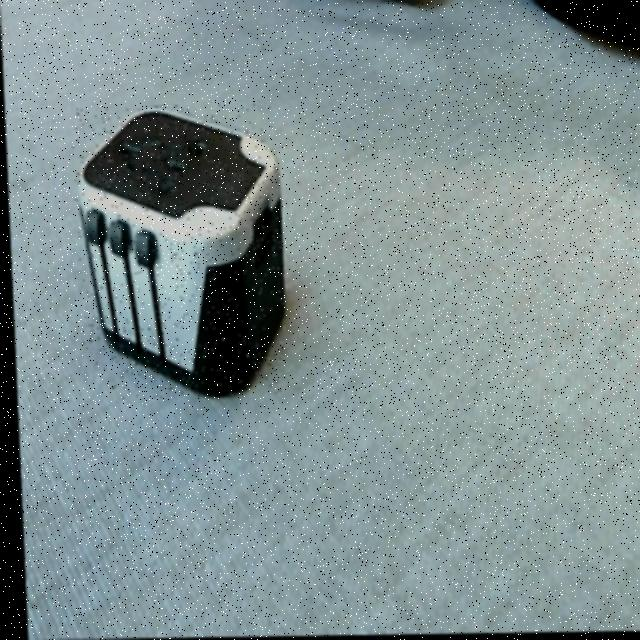adapter: (70, 105, 286, 399)
